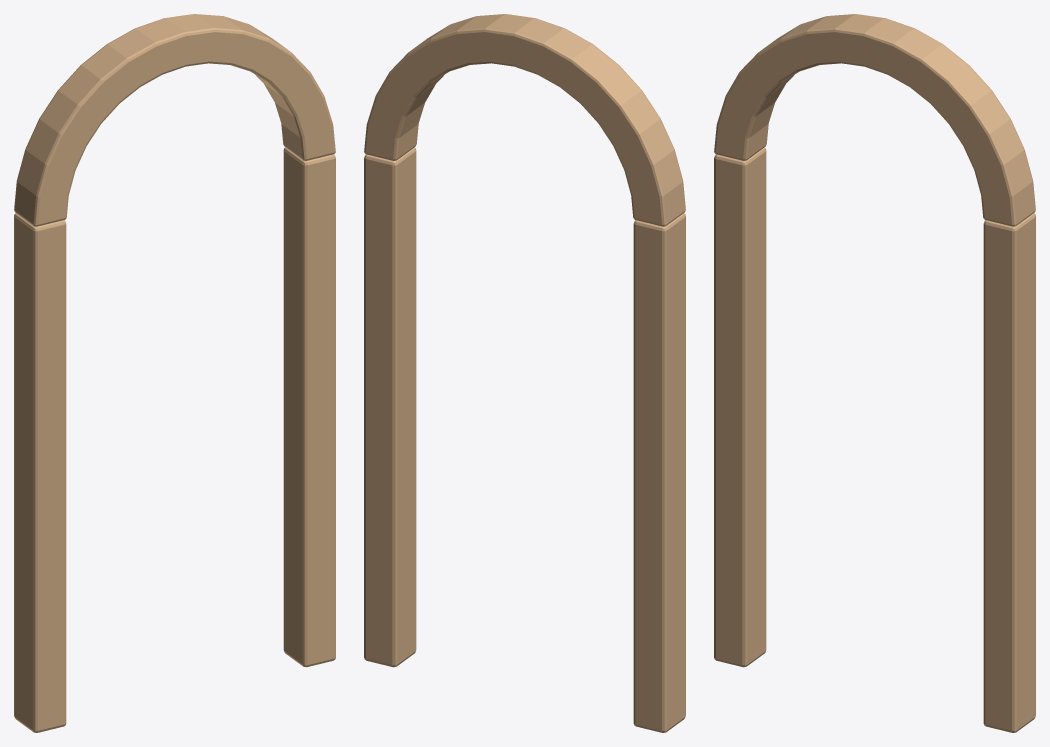
Rendered from doors__entries___window_views_asset_sheet_27.glb.
3 renders of one model, left to right at view 1: azimuth 30°, elevation 25°; view 2: azimuth 150°, elevation 25°; view 3: azimuth 330°, elevation 25°, orthographic.
Parts seen in each view (by area): view 1: Cube; view 2: Cube; view 3: Cube.
Part boxes in pixels (x1=…): Cube: x1=14, y1=14, x2=335, y2=732; Cube: x1=364, y1=14, x2=685, y2=732; Cube: x1=714, y1=14, x2=1035, y2=732.
Bounding box in the file's own units: 1.1 × 2.31 × 0.14.
